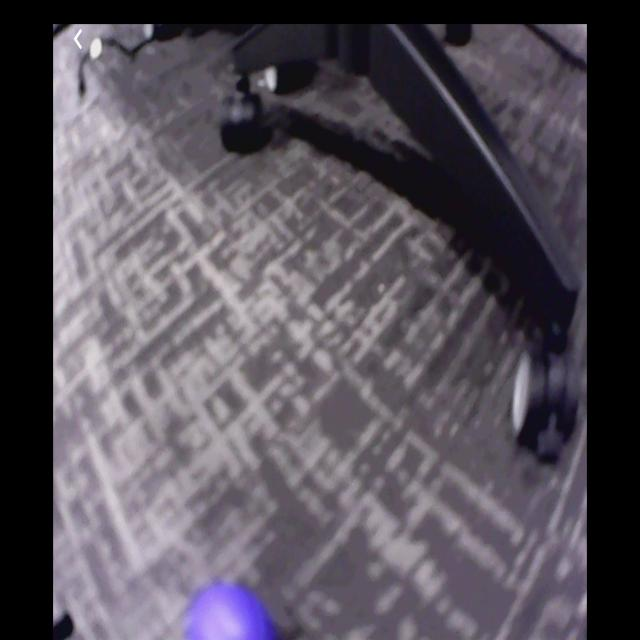ball: (182, 580, 283, 640)
